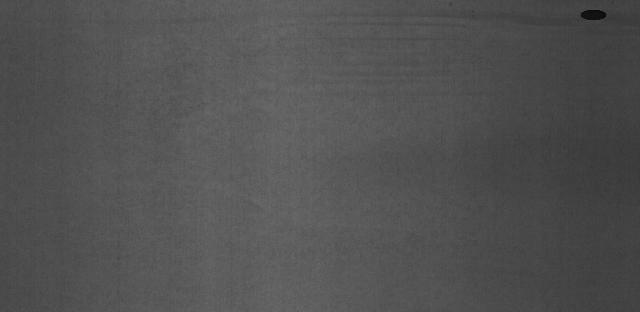punching_hole: (577, 6, 609, 23)
